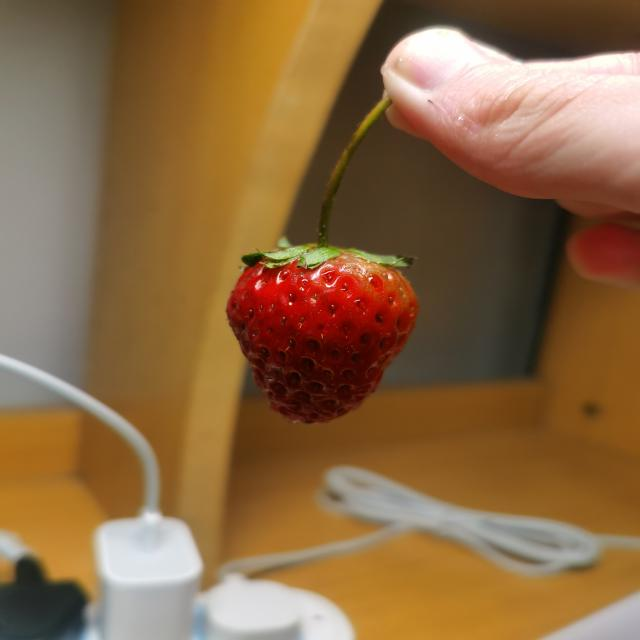stem: (318, 142, 359, 250)
strawberry: (225, 244, 420, 425)
